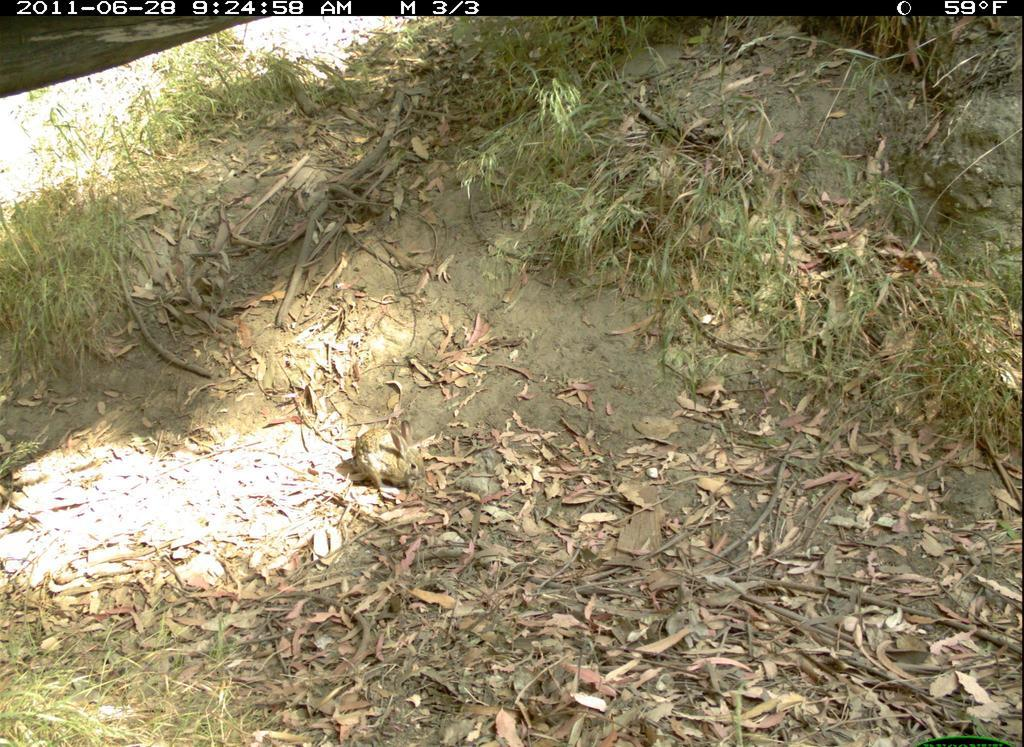rabbit: (341, 414, 433, 497)
